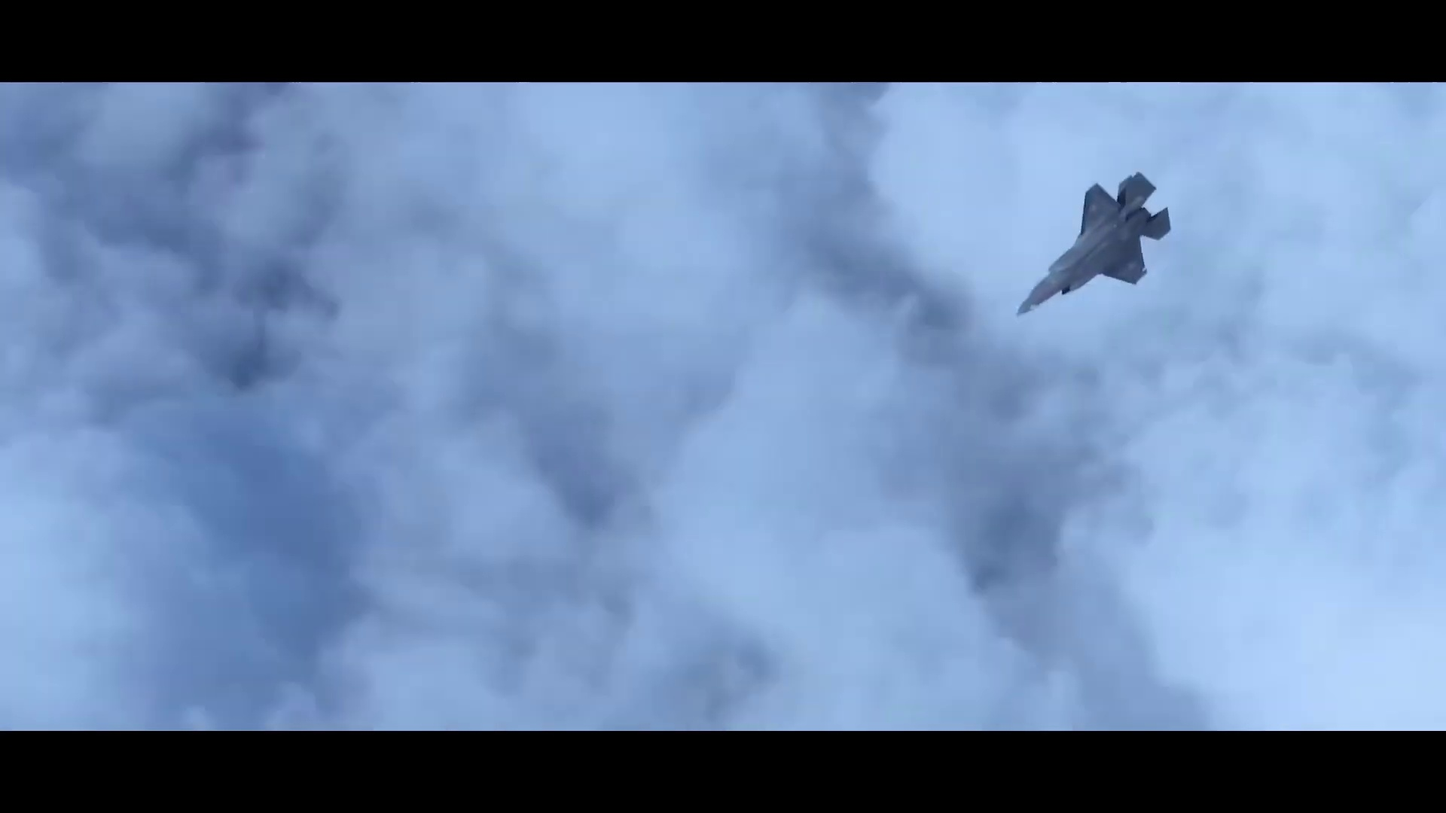F35: (1016, 172, 1171, 316)
